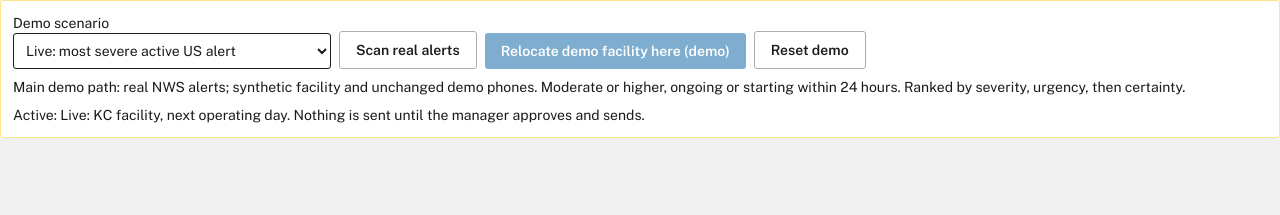
Test: never substitutes a mock feed when there are no qualifying live alerts
Click the button "Scan real alerts" at (408, 50), box [339,31,477,69]
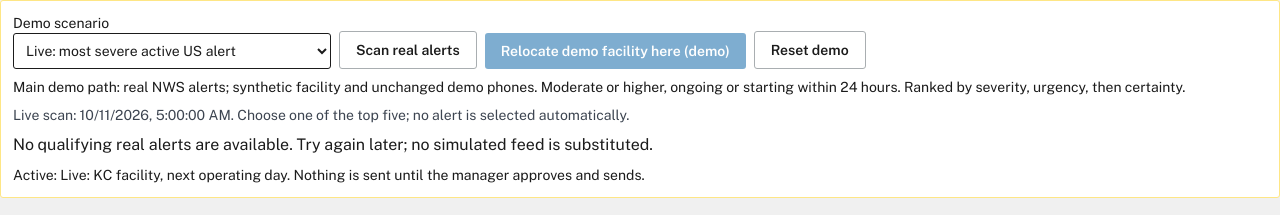
Result: the text "No qualifying real alerts" is shown at [13,135,653,154]
